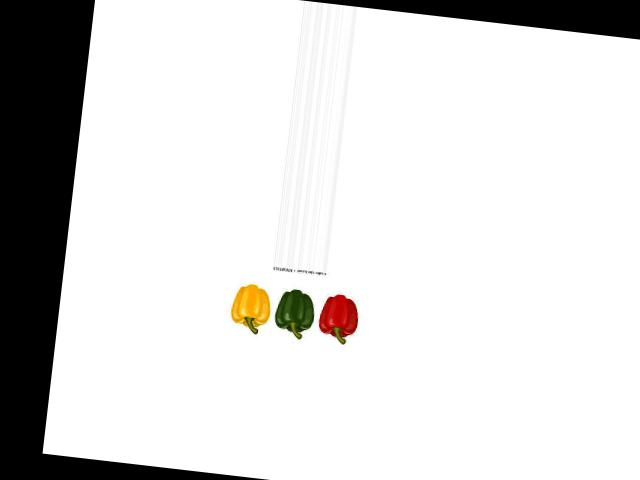bell_pepper: (227, 278, 276, 334)
